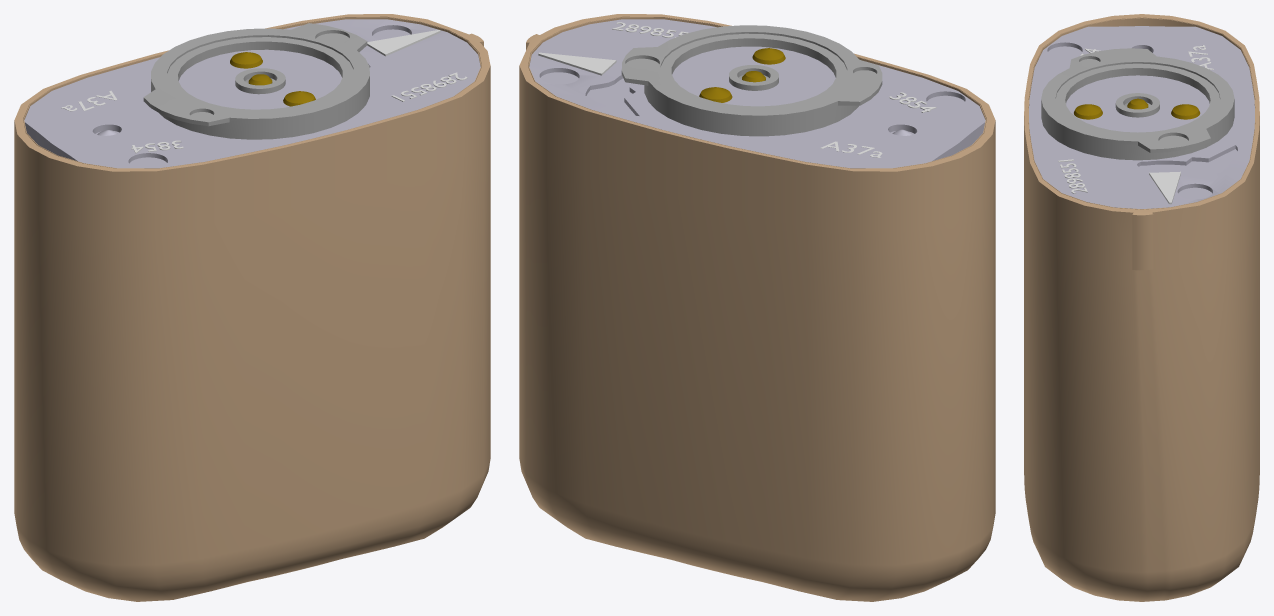
The model's file is nucleus7_battery_short_beige.glb.
3 renders of one model, left to right at view 1: azimuth 30°, elevation 25°; view 2: azimuth 150°, elevation 25°; view 3: azimuth 270°, elevation 25°, orthographic. The views are drawn at different scales.
Parts seen in each view (by area): view 1: Battery Module for Charging; view 2: Battery Module for Charging; view 3: Battery Module for Charging.
Part boxes in pixels (x1,y1,x2,y2): Battery Module for Charging: (14, 14, 490, 601); Battery Module for Charging: (519, 14, 995, 601); Battery Module for Charging: (1024, 14, 1259, 601).
Bounding box in the file's own units: 0.048 × 0.0488 × 0.0238.
